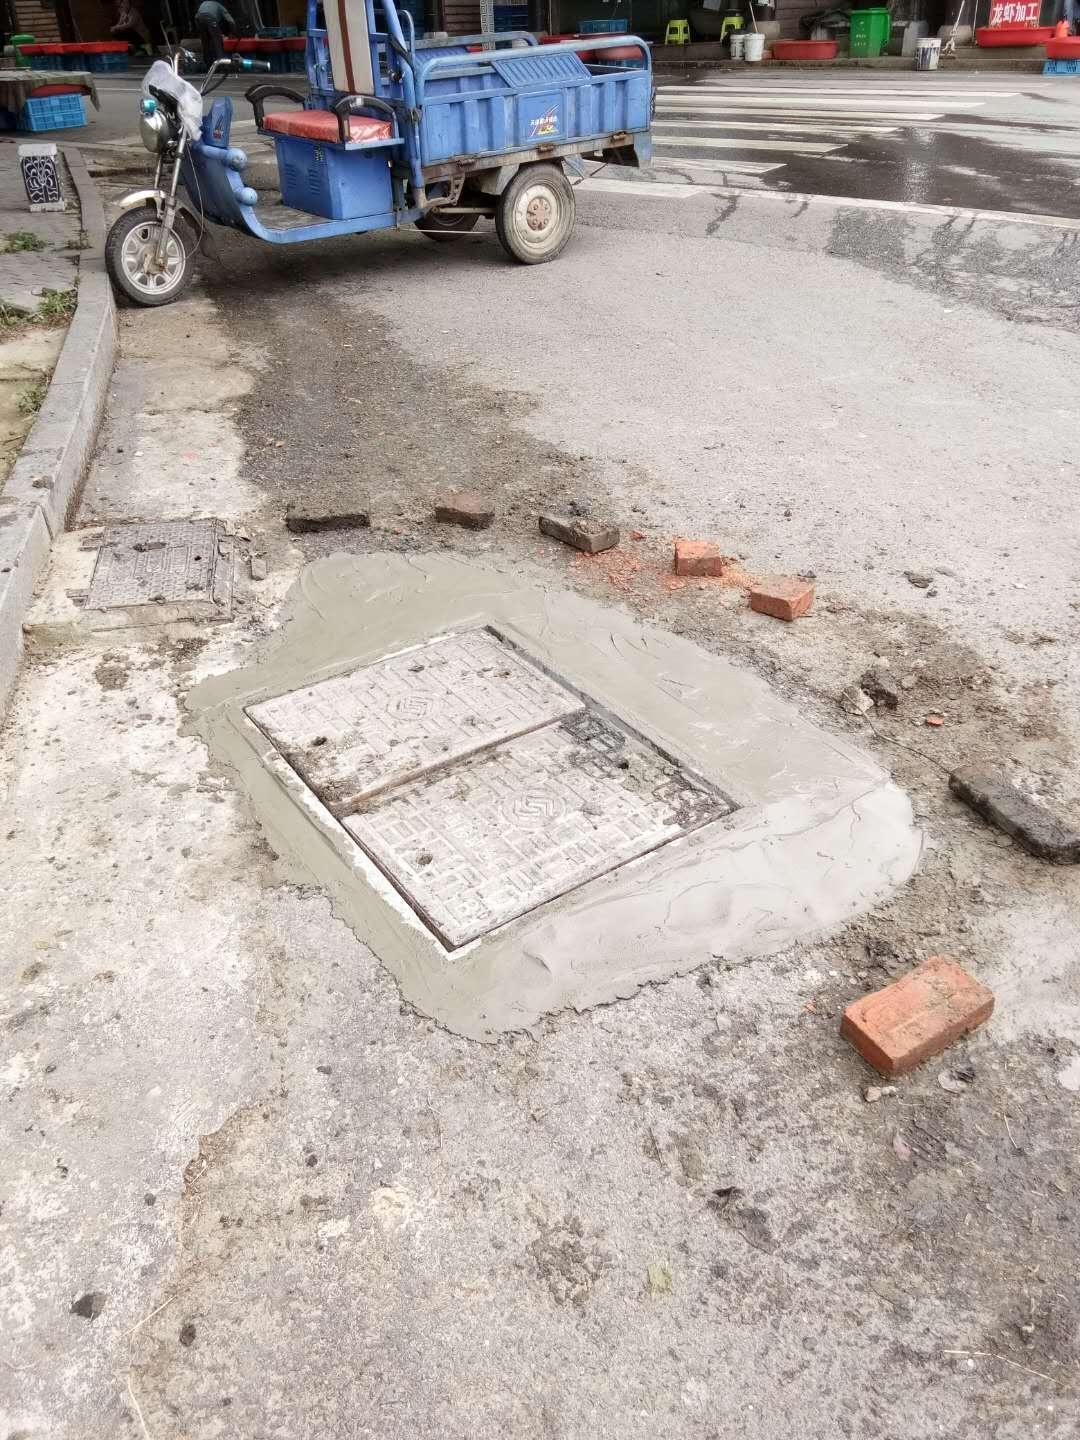wellcover: (216, 598, 783, 989), (61, 506, 253, 622)
